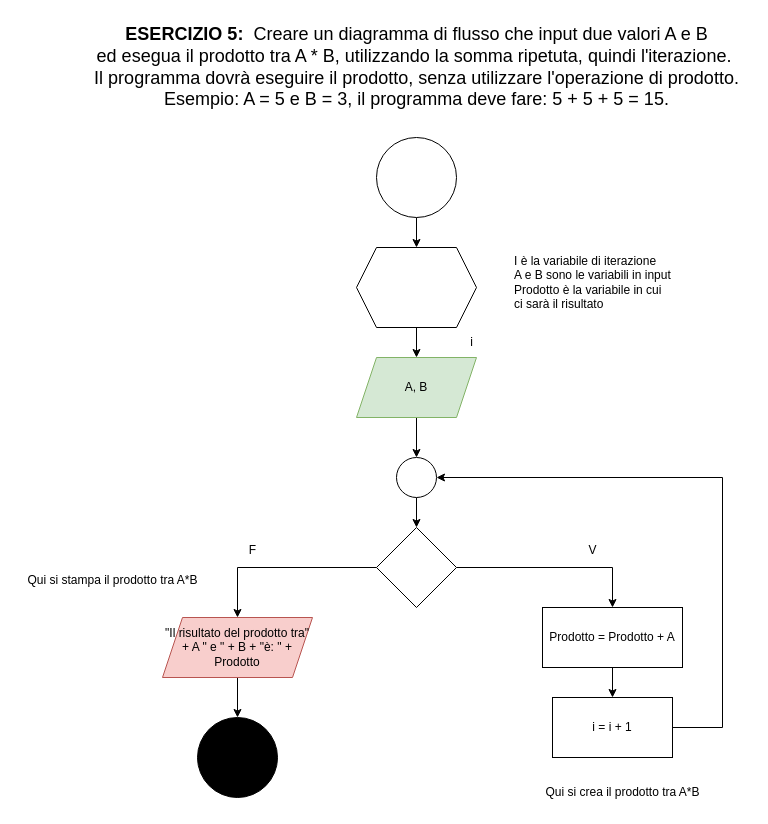
Image size: 768x824. Some labels were removed from this diagram. Each missing label, with the centre of its shape:
"A, B, Prodotto = 0, i = 1" belongs at pixel 416 287.
"i <= B" belongs at pixel 416 567.
